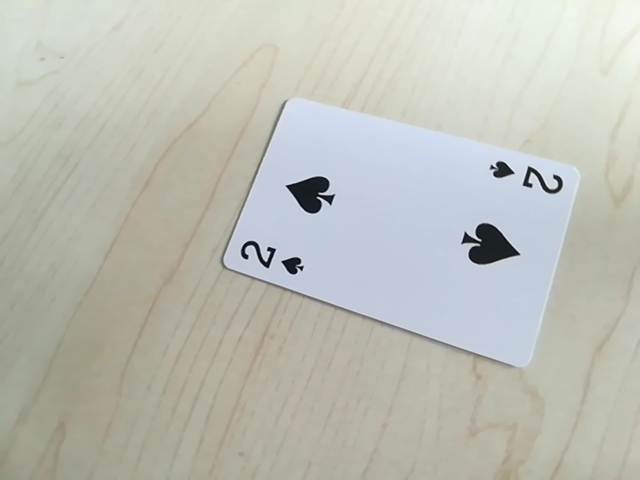ht 2: (484, 157, 570, 200), (231, 235, 311, 280)
